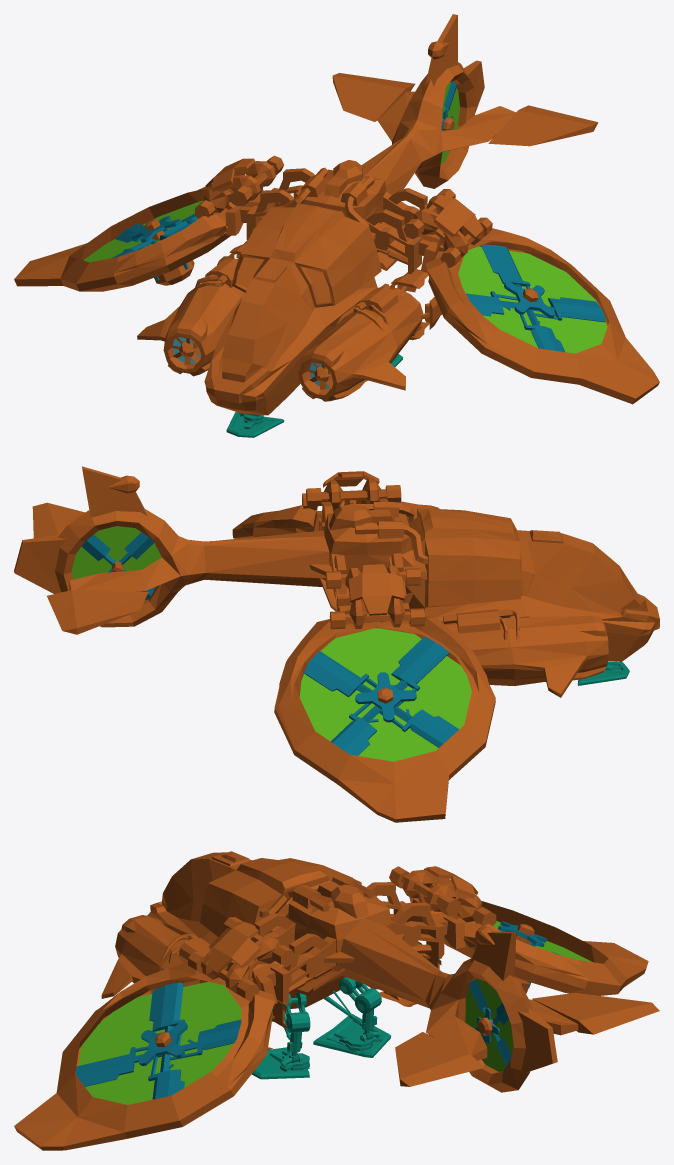
The model's file is ArmoryBanshee.obj.
The picture shows the model from 3 angles, top to bottom: view 1: azimuth 30°, elevation 25°; view 2: azimuth 150°, elevation 25°; view 3: azimuth 270°, elevation 25°; orthographic projection. The views are drawn at different scales.
Parts seen in each view (by area): view 1: SM_ArmoryBanshee_1, SM_ArmoryBanshee_3, SM_ArmoryBanshee_2, SM_ArmoryBanshee_7; view 2: SM_ArmoryBanshee_1, SM_ArmoryBanshee_3, SM_ArmoryBanshee_2, SM_ArmoryBanshee_7; view 3: SM_ArmoryBanshee_1, SM_ArmoryBanshee_3, SM_ArmoryBanshee_2, SM_ArmoryBanshee_7.
Part boxes in pixels (x1,y1,x2,y2): SM_ArmoryBanshee_1: (14,14,659,415); SM_ArmoryBanshee_3: (83,82,607,353); SM_ArmoryBanshee_2: (112,81,605,352); SM_ArmoryBanshee_7: (226,354,403,437); SM_ArmoryBanshee_1: (14,466,659,822); SM_ArmoryBanshee_3: (71,526,471,761); SM_ArmoryBanshee_2: (81,532,458,755); SM_ArmoryBanshee_7: (577,661,629,685); SM_ArmoryBanshee_1: (14,851,659,1150); SM_ArmoryBanshee_3: (78,921,592,1104); SM_ArmoryBanshee_2: (75,921,560,1099); SM_ArmoryBanshee_7: (251,977,390,1079).
Bounding box in the file's own units: 3.87 × 1.65 × 4.05.
